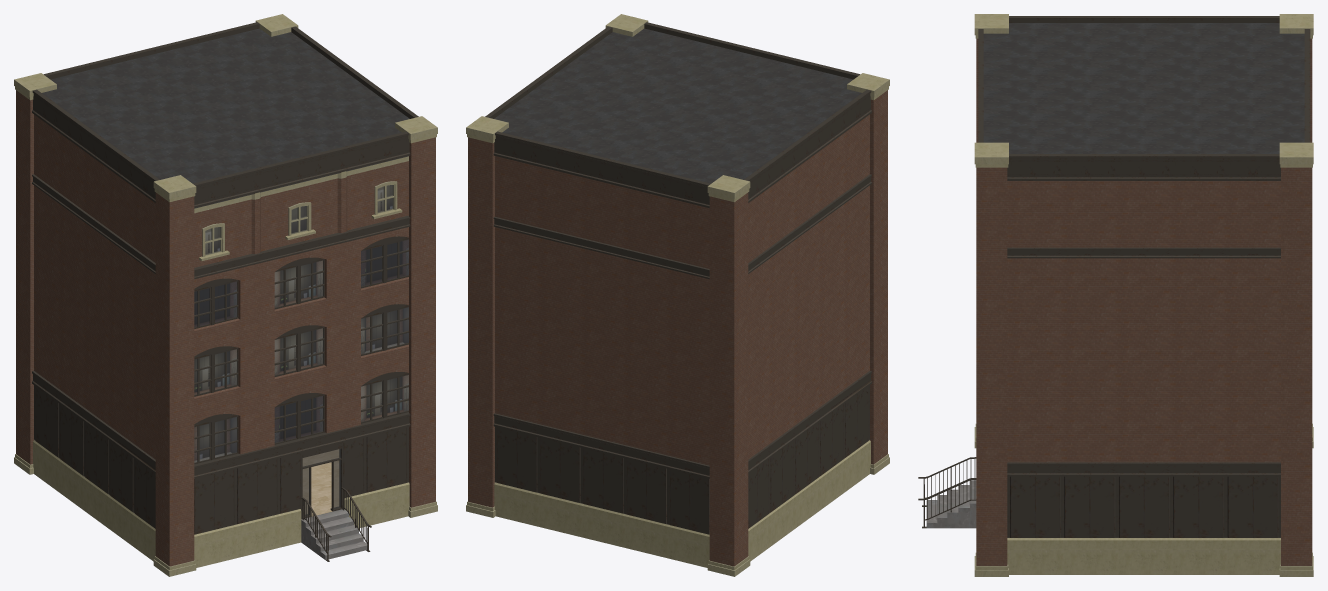
File: building_small.glb
The picture shows the model from 3 angles, left to right: view 1: azimuth 30°, elevation 25°; view 2: azimuth 150°, elevation 25°; view 3: azimuth 270°, elevation 25°; orthographic projection. The views are drawn at different scales.
Parts seen in each view (by area): view 1: Building_Small_1; view 2: Building_Small_1; view 3: Building_Small_1.
Part boxes in pixels (x1=…): Building_Small_1: x1=14, y1=14, x2=437, y2=576; Building_Small_1: x1=466, y1=14, x2=889, y2=576; Building_Small_1: x1=918, y1=14, x2=1313, y2=576.
Bounding box in the file's own units: 12.46 × 17.03 × 14.54.
10 materials, 9 textured.
